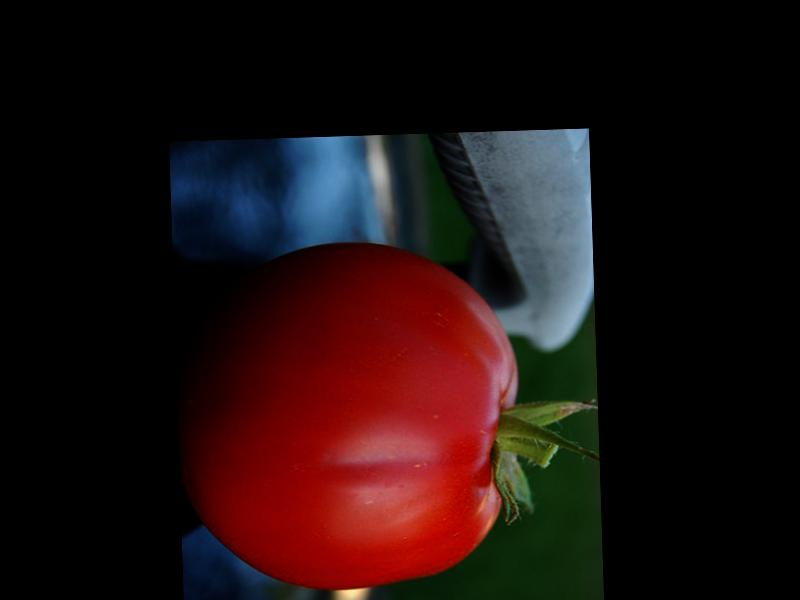Tomato: (172, 236, 524, 595)
